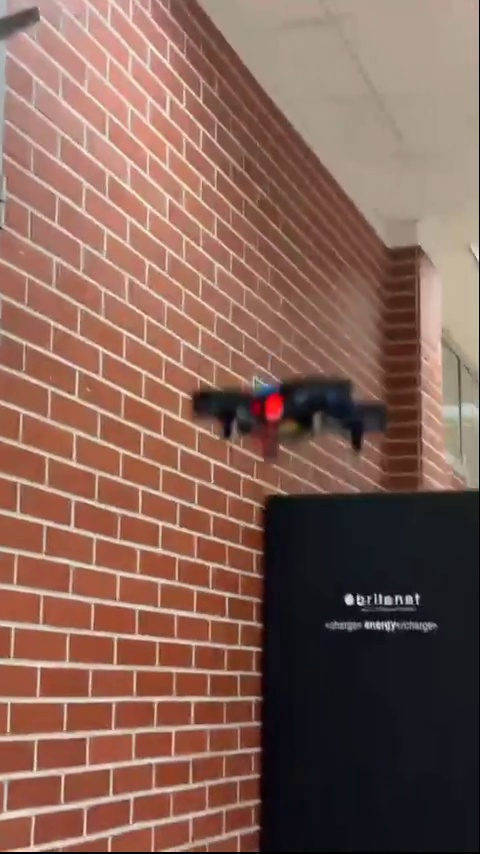drone: (191, 375, 394, 460)
